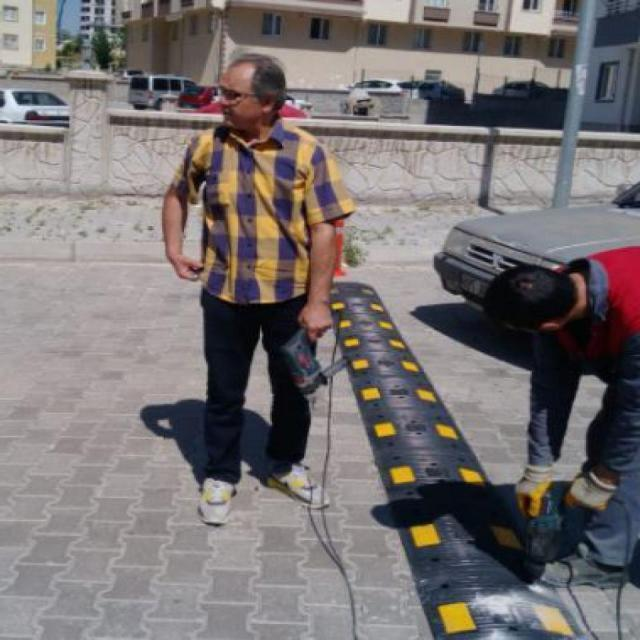Speed_Breaker: (314, 282, 585, 640), (332, 282, 594, 639), (332, 282, 485, 500)
